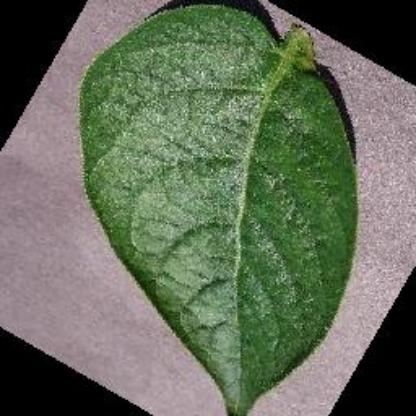Healthy-plant: (69, 0, 361, 416)
